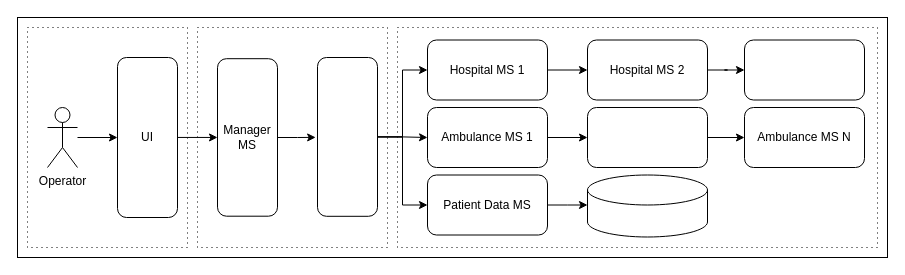
This 905x275 diagram has some shape labels left out. The box of each missing label's shape, as (x1, y1, x2, y2) in pixels:
Ambulance MS 2: (586, 106, 708, 168)
Event Broker: (316, 56, 378, 216)
Hospital MS N: (744, 39, 864, 100)
Patient DB: (586, 174, 708, 237)
